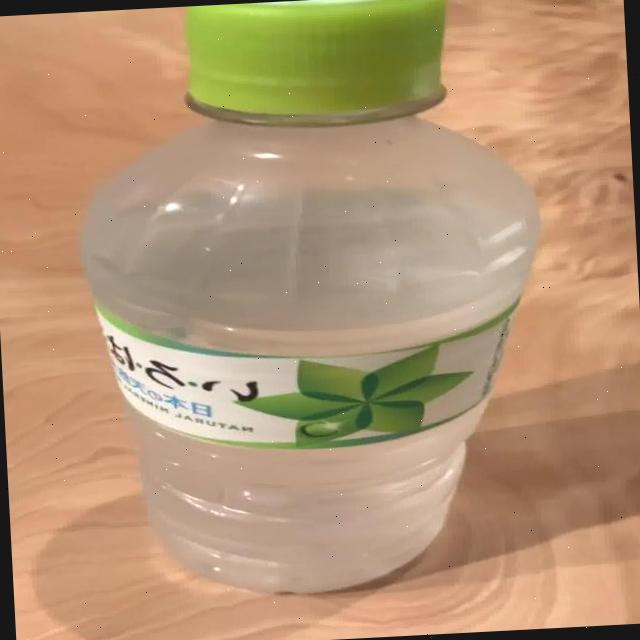bottle: (64, 0, 562, 609)
cap: (160, 0, 458, 142)
label: (81, 306, 535, 454)
